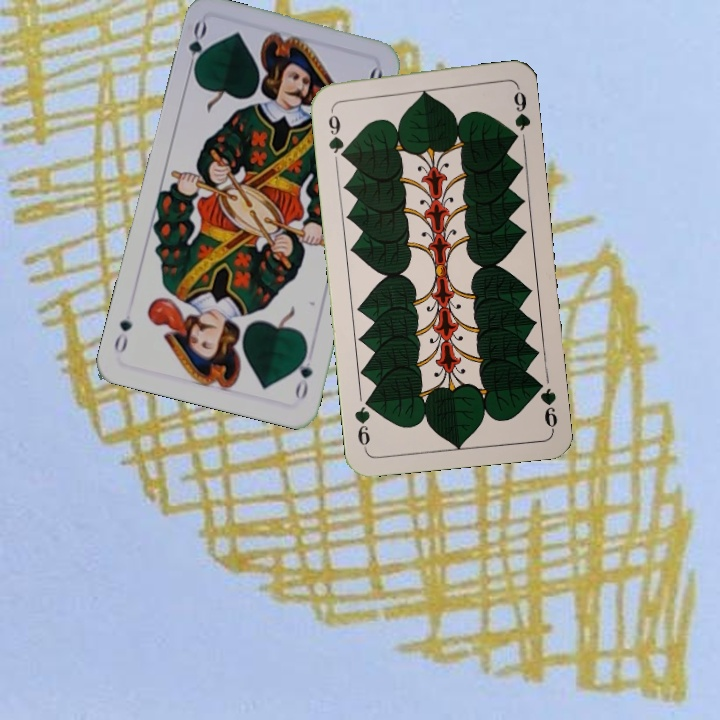G9: (531, 375, 560, 432), (324, 103, 349, 162)
GO: (183, 18, 210, 78), (290, 344, 316, 403)
